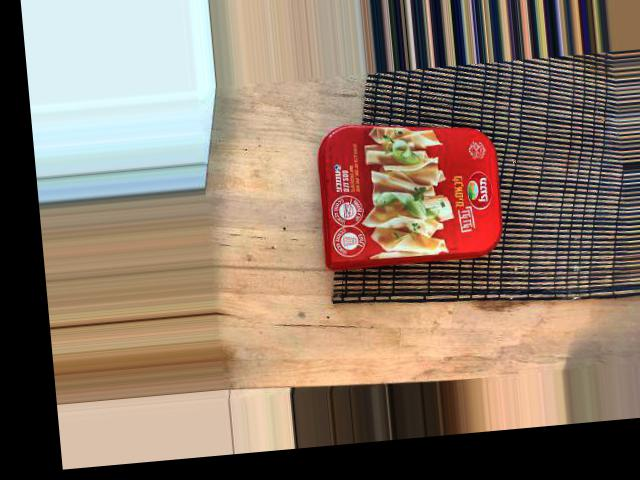cheese: (431, 65, 573, 263)
